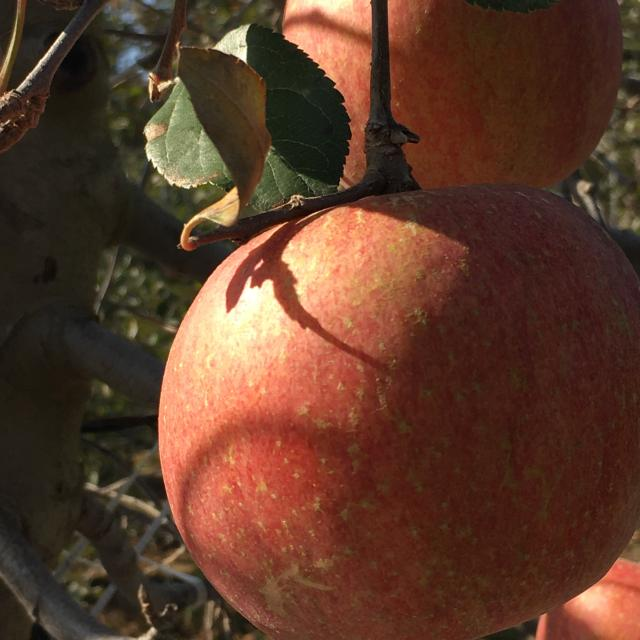fresh: (150, 177, 640, 640)
